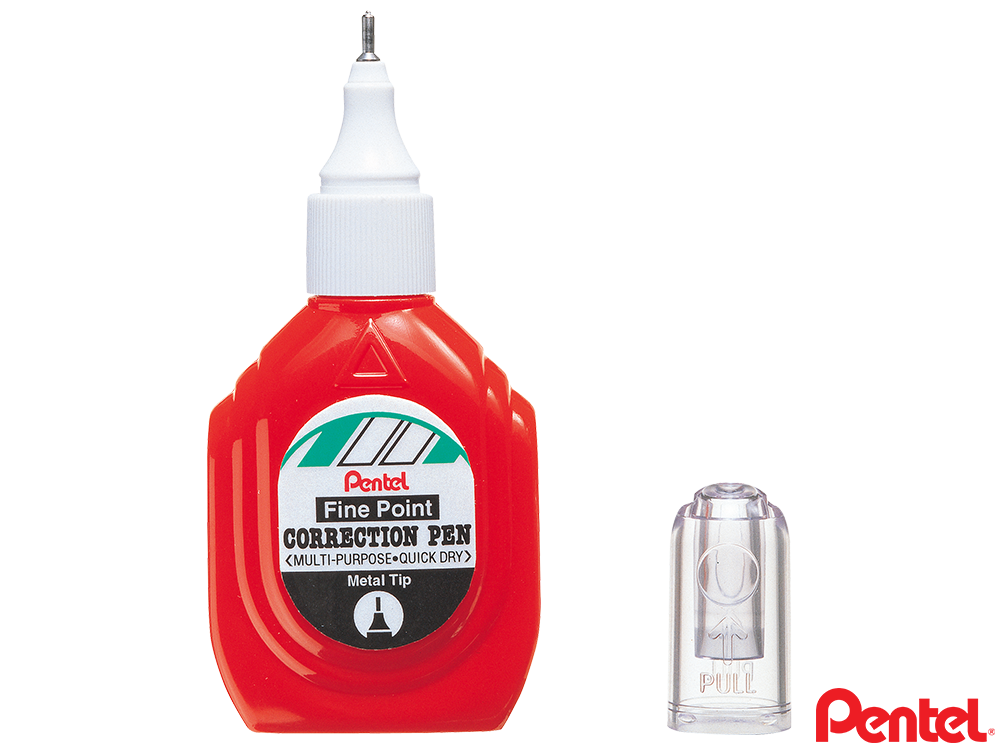Correction_fluid: (199, 4, 547, 741)
